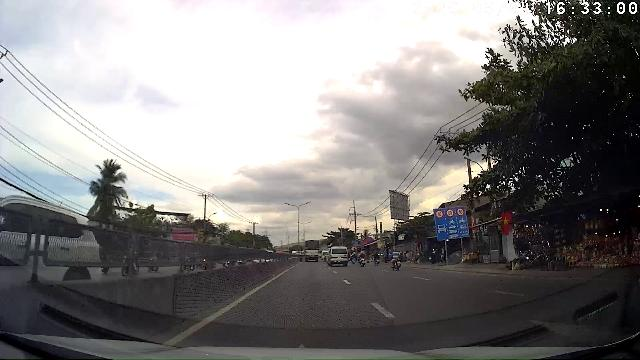127-toc-do-toi-da-60: (456, 208, 466, 216), (436, 210, 444, 218), (446, 209, 454, 217)
